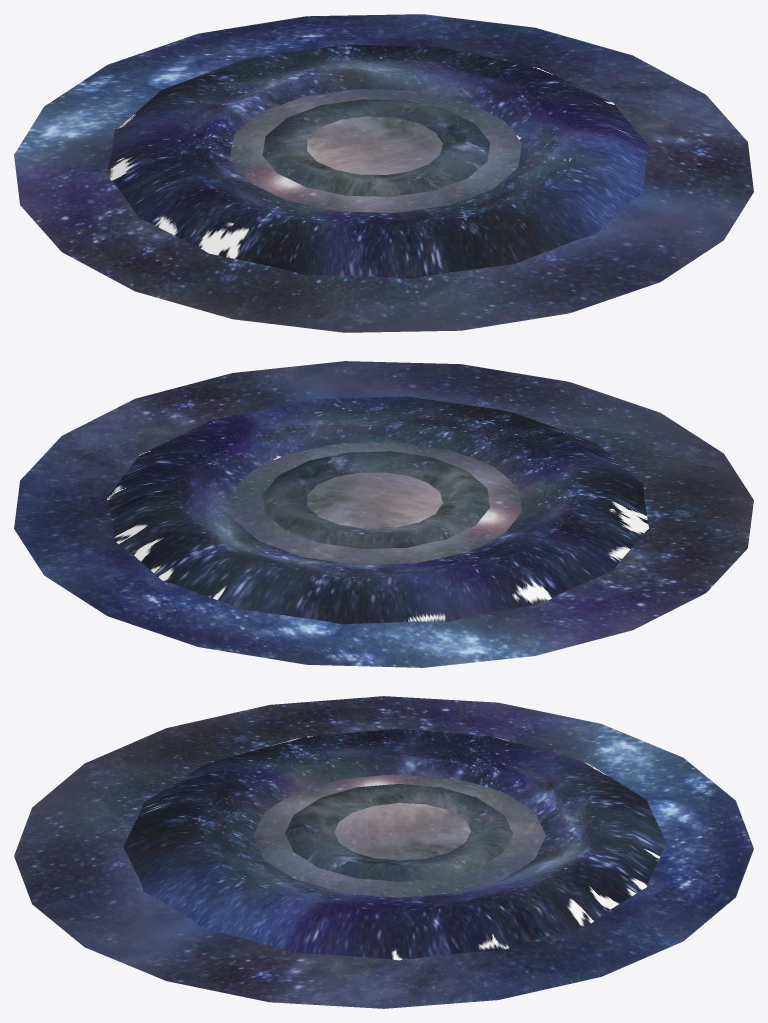
Rendered from cloud1.fbx.
3 views of the same model, one above another, from view 1: azimuth 30°, elevation 25°; view 2: azimuth 150°, elevation 25°; view 3: azimuth 270°, elevation 25° (orthographic).
Parts seen in each view (by area): view 1: y3:pCylinder1, y3:pPipe3; view 2: y3:pCylinder1, y3:pPipe3; view 3: y3:pCylinder1, y3:pPipe3.
Part boxes in pixels (x1,y1,x2,y2): y3:pCylinder1: [14, 14, 753, 332]; y3:pPipe3: [106, 44, 648, 278]; y3:pCylinder1: [14, 361, 753, 667]; y3:pPipe3: [106, 396, 648, 624]; y3:pCylinder1: [14, 696, 753, 1008]; y3:pPipe3: [123, 728, 666, 960].
Size of the model in its own units: 45.53 by 2.12 by 45.53.
Materials: 1 (1 with a texture image).
